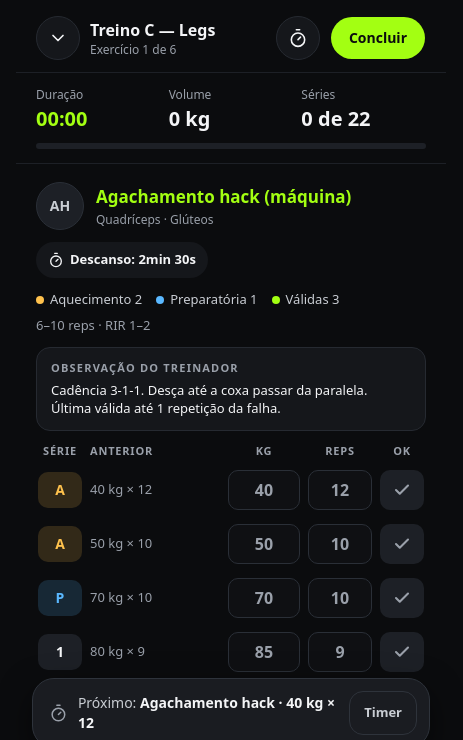
Test: Treino em andamento › o timer continua contando pelo relógio
This screenshot has width=463, height=740.
Expected: the heading "Treino C — Legs" is shown, [90, 19, 215, 41]
What coordinates should you click on to do the following:
click the button named "Concluir série válida 1"
I would click on:
 (402, 652)
Its box is [380, 632, 424, 672].
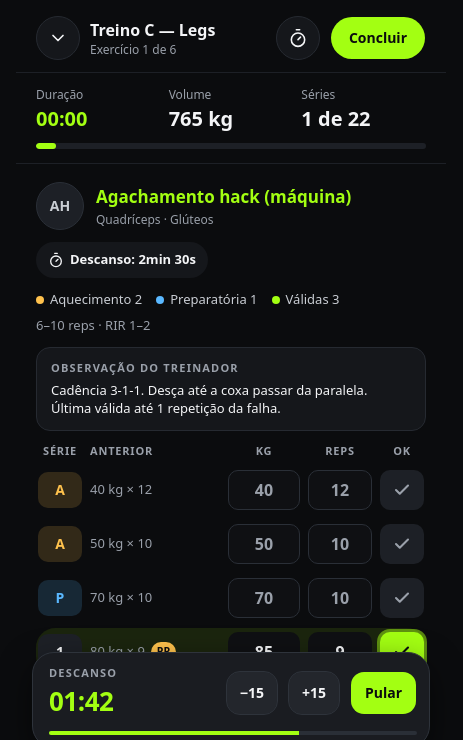
Now the text "01:42" is shown, box [49, 682, 113, 721]
